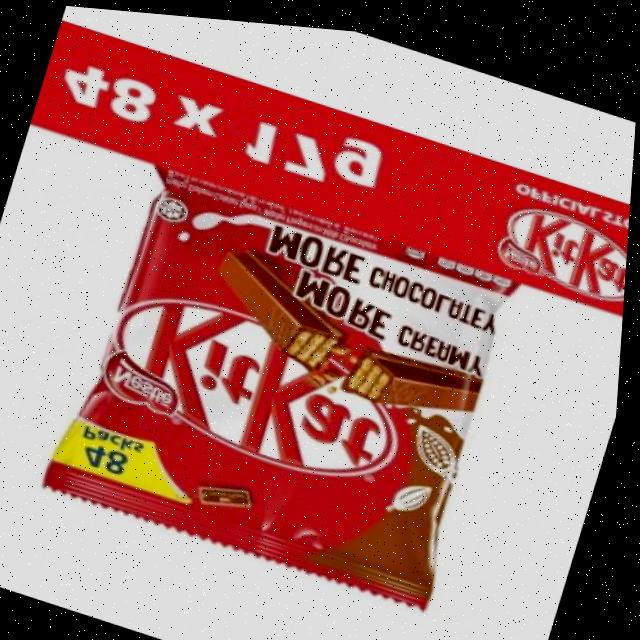kitkat: (45, 154, 533, 609)
